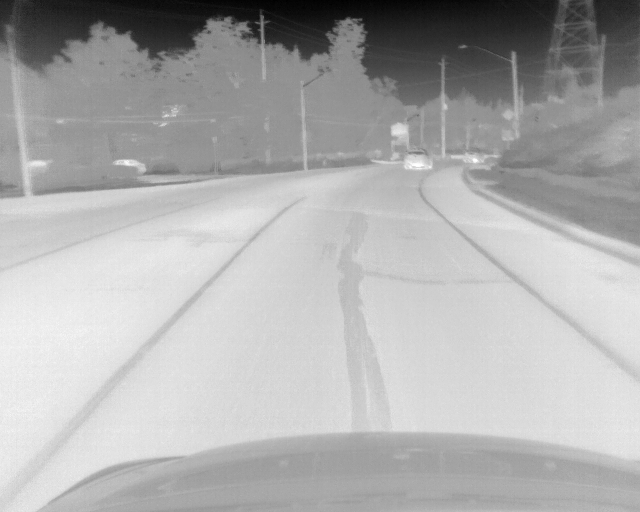car: (402, 148, 432, 170), (110, 158, 146, 176), (462, 149, 484, 164)
